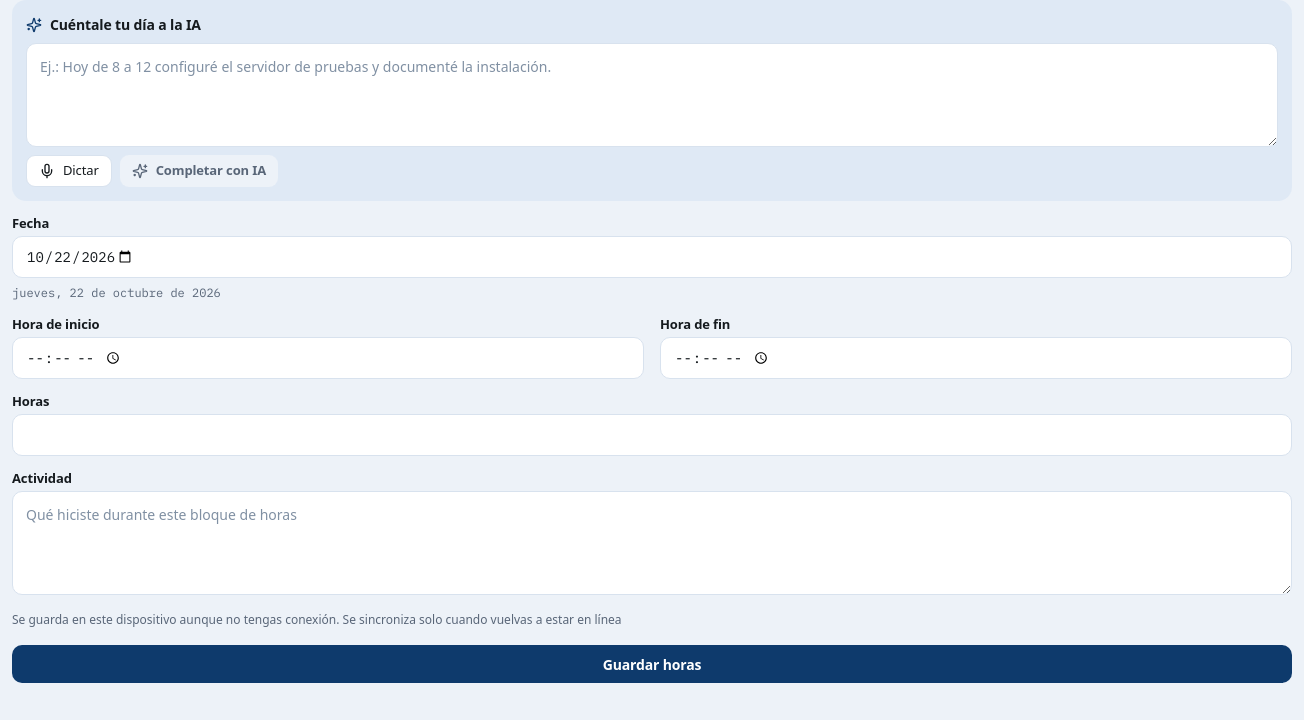
Scenario: Cuéntale tu día a la IA (estudiante) › si el servidor falla, avisa y deja el formulario para llenarlo a mano
This screenshot has width=1304, height=720.
Replace the text in the text box labelled "Cuéntale tu día a la IA" with "algo" at (652,95), box top-left (26, 43), bottom-right (1278, 147)
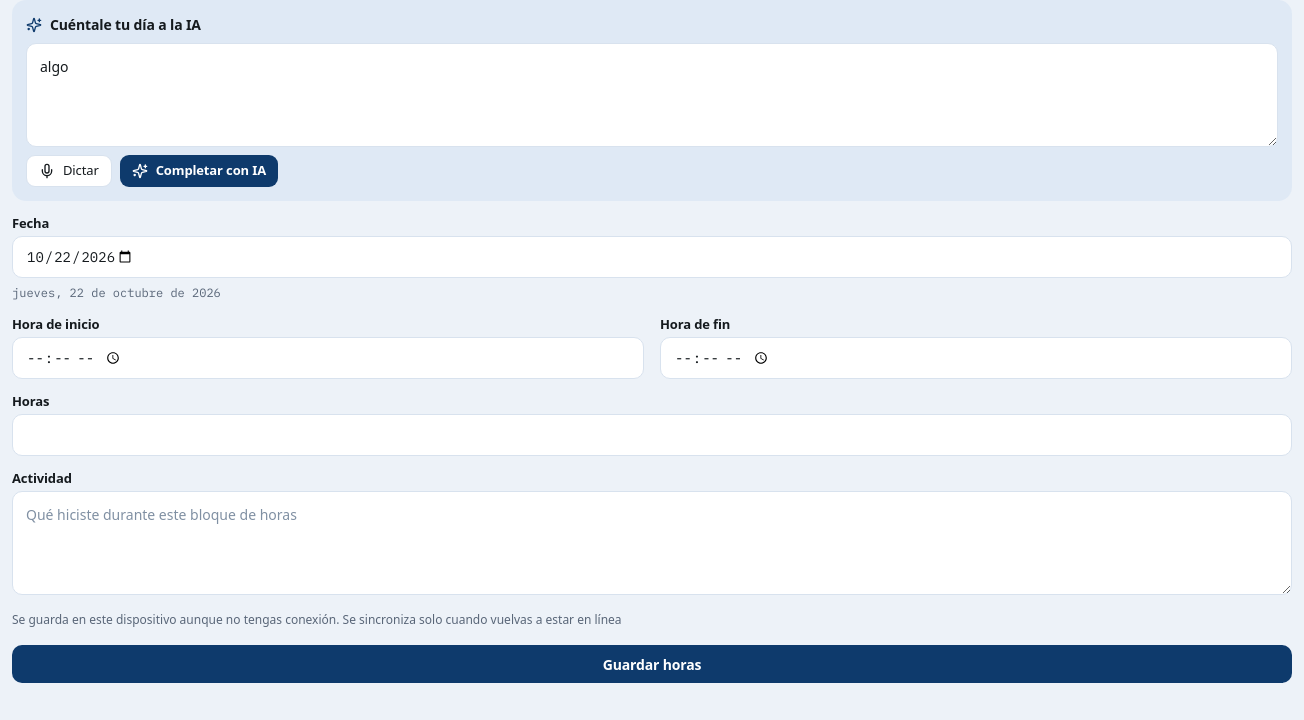
Click the button "Completar con IA" at (199,171), box top-left (120, 155), bottom-right (278, 187)
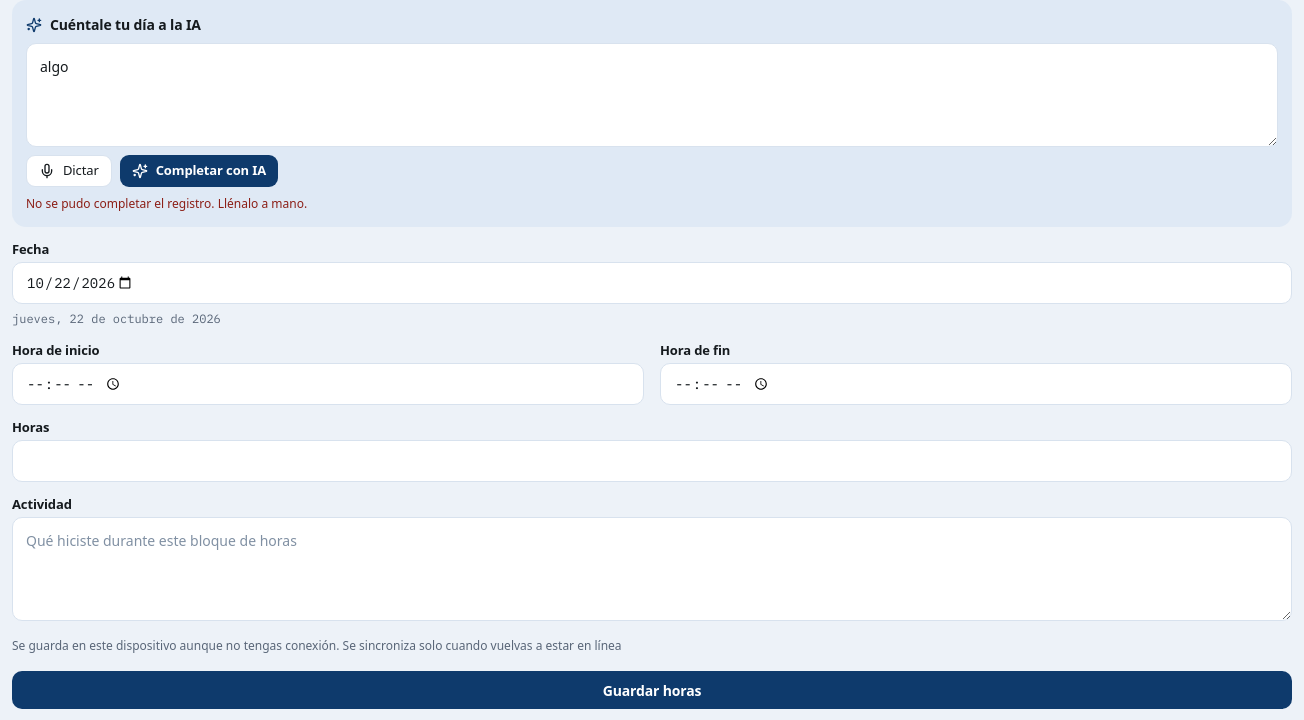
Expected: the message reads "No se pudo completar el registro. Llénalo a mano.", top-left (26, 195), bottom-right (307, 212)
